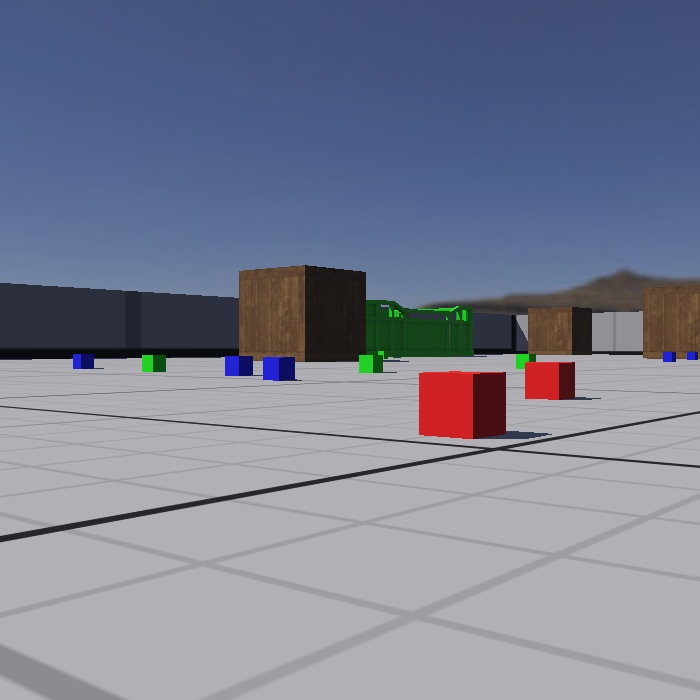caixa_verde: (360, 292, 480, 364)
cubo_azul: (258, 349, 306, 390), (221, 344, 261, 385), (62, 342, 97, 371), (651, 341, 683, 368), (683, 341, 700, 374)
cubo_verde: (349, 346, 391, 380), (135, 346, 175, 380), (504, 340, 542, 374)
cubo_vermelho: (409, 360, 518, 449), (516, 350, 584, 408)
obstaculo: (227, 256, 378, 375), (634, 273, 700, 363), (520, 301, 600, 366)
